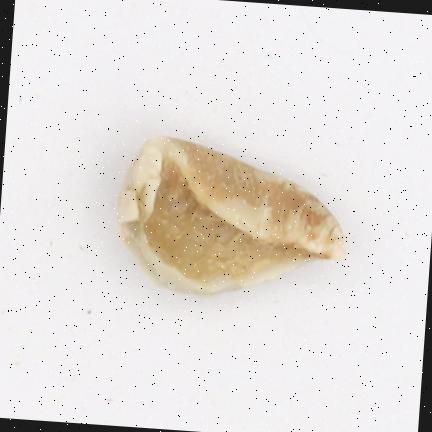cut: (120, 136, 344, 293)
